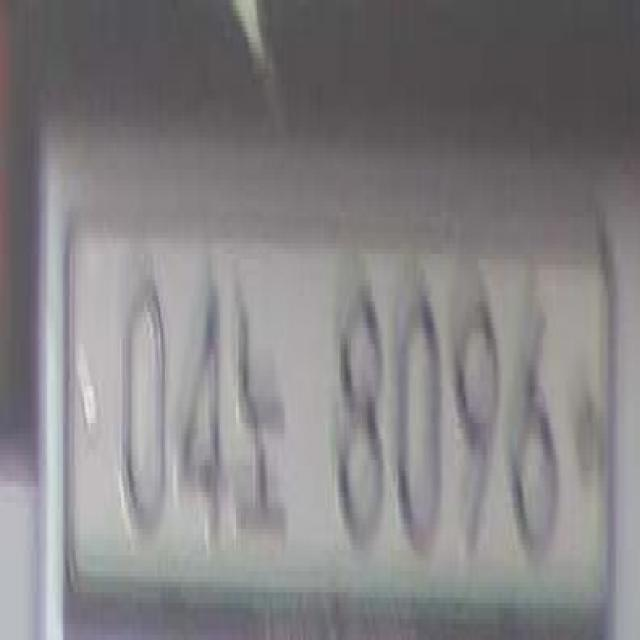illegal_plate: (58, 199, 621, 638)
